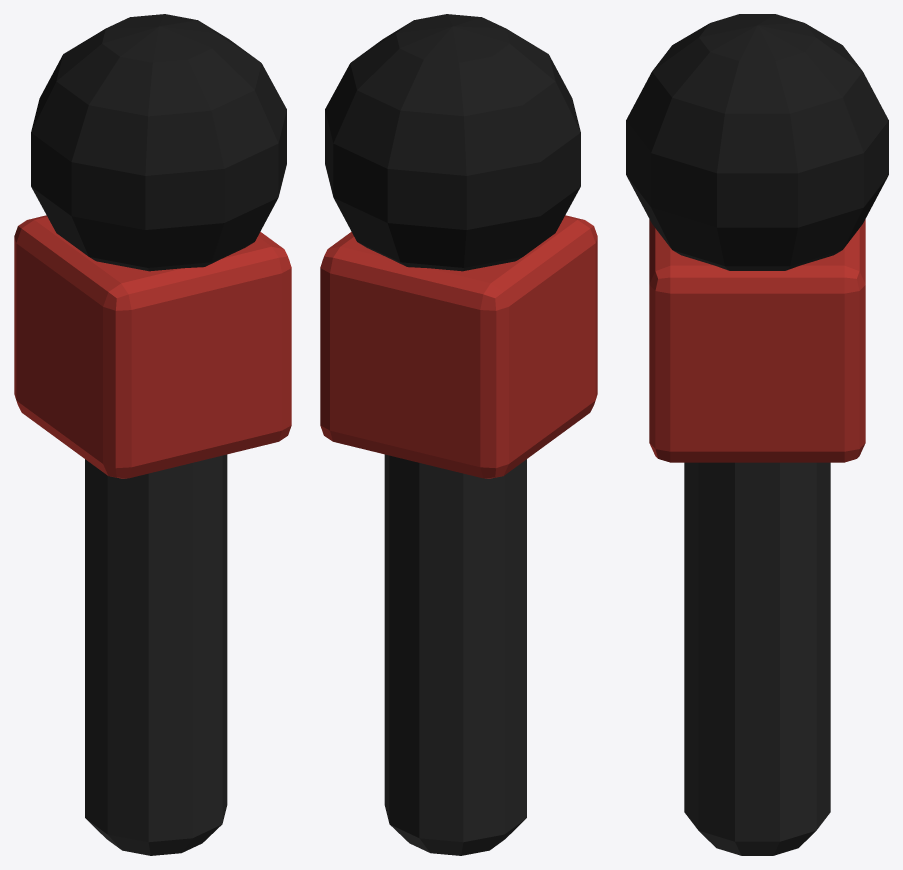
File: SM_Microphone_01.glb
3 renders of one model, left to right at view 1: azimuth 30°, elevation 25°; view 2: azimuth 150°, elevation 25°; view 3: azimuth 270°, elevation 25°, orthographic.
Visible parts, largest first — view 1: SM_Microphone_01; view 2: SM_Microphone_01; view 3: SM_Microphone_01.
Boxes of the visible parts, <box> form: SM_Microphone_01: <box>14,14,291,855</box>; SM_Microphone_01: <box>320,14,597,855</box>; SM_Microphone_01: <box>626,14,888,855</box>.
Size of the model in its own units: 0.0812 by 0.2908 by 0.0854.
Materials: 1 (1 with a texture image).
